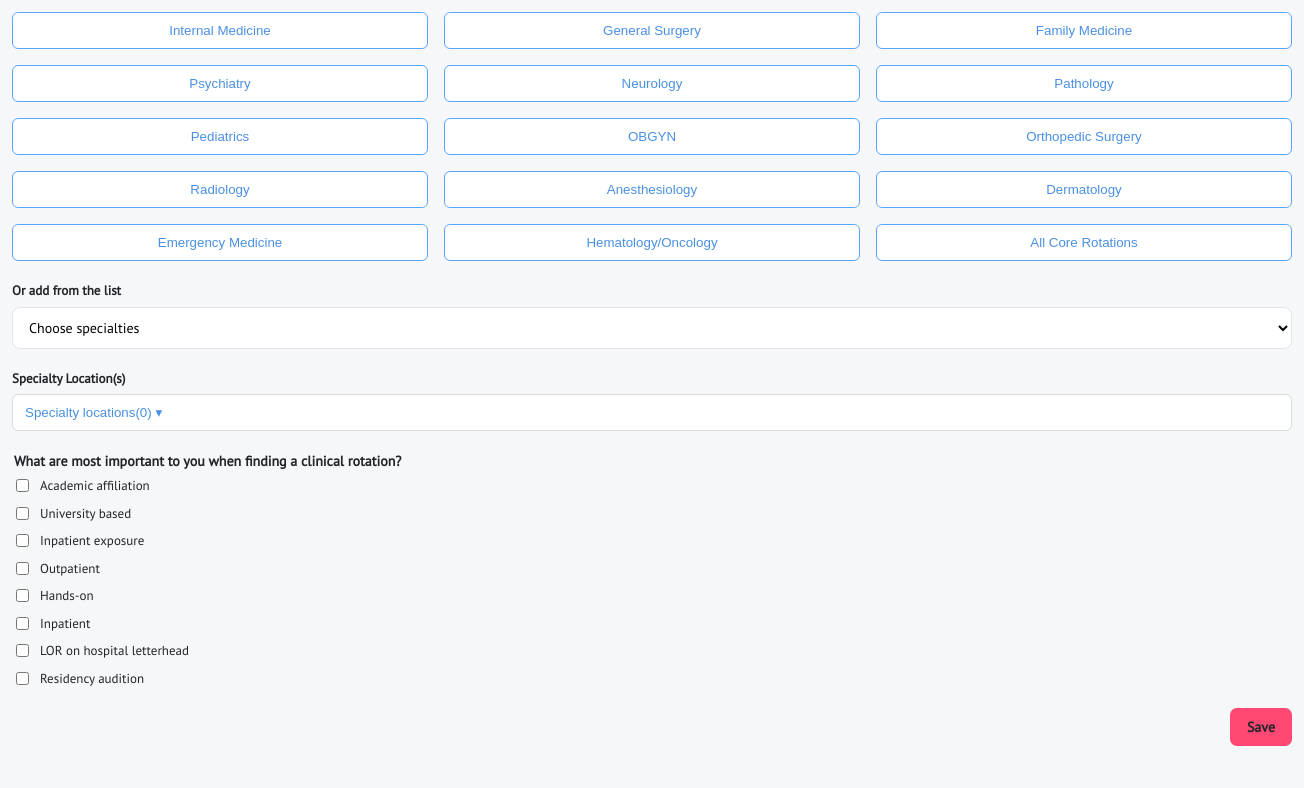
Test: StudentNeedsTab › renders the medical interests grid and saves a toggled selection
expect the button "All Core Rotations" is shown: met, box [876, 224, 1292, 261]
Click the button "Internal Medicine" at (220, 30), box [12, 12, 428, 49]
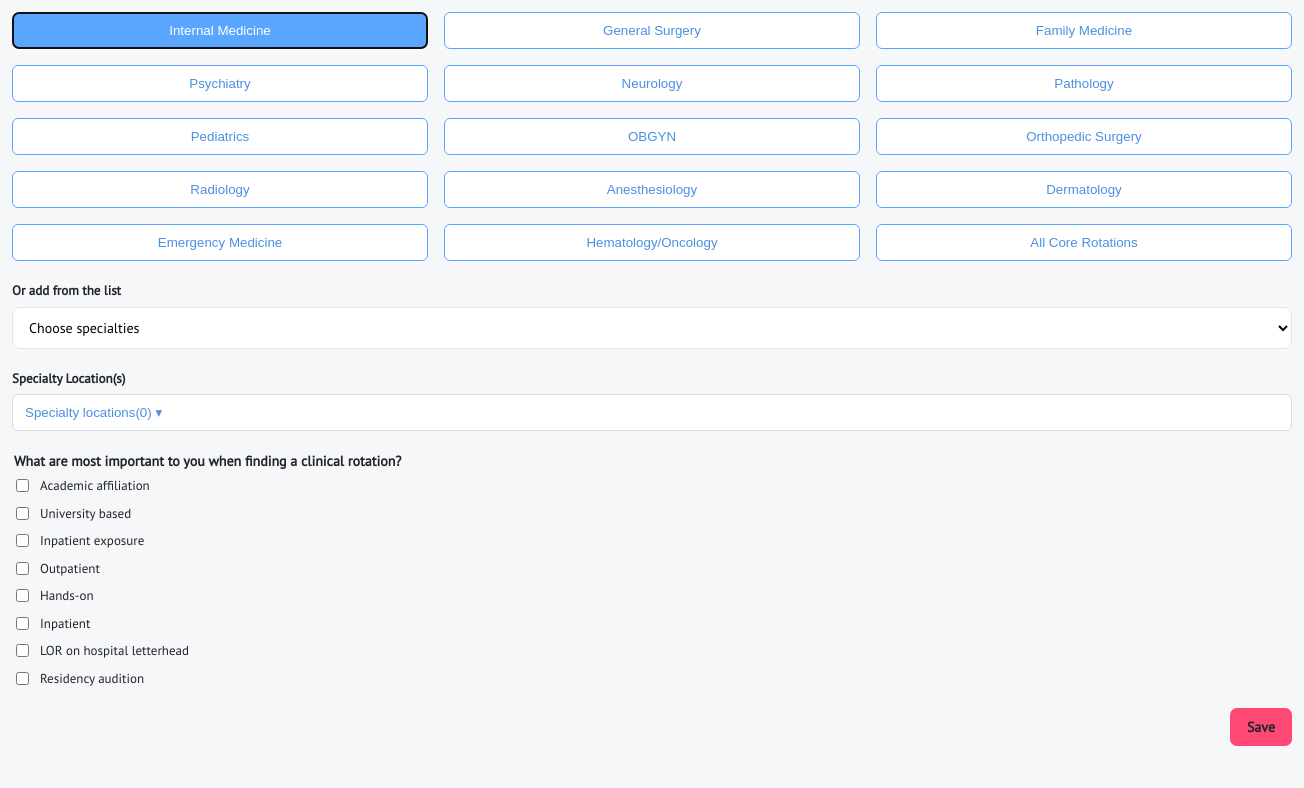
expect the button "Internal Medicine" is pressed: met, box [12, 12, 428, 49]
Click the button "Save" at (1261, 727), box [1230, 708, 1292, 746]
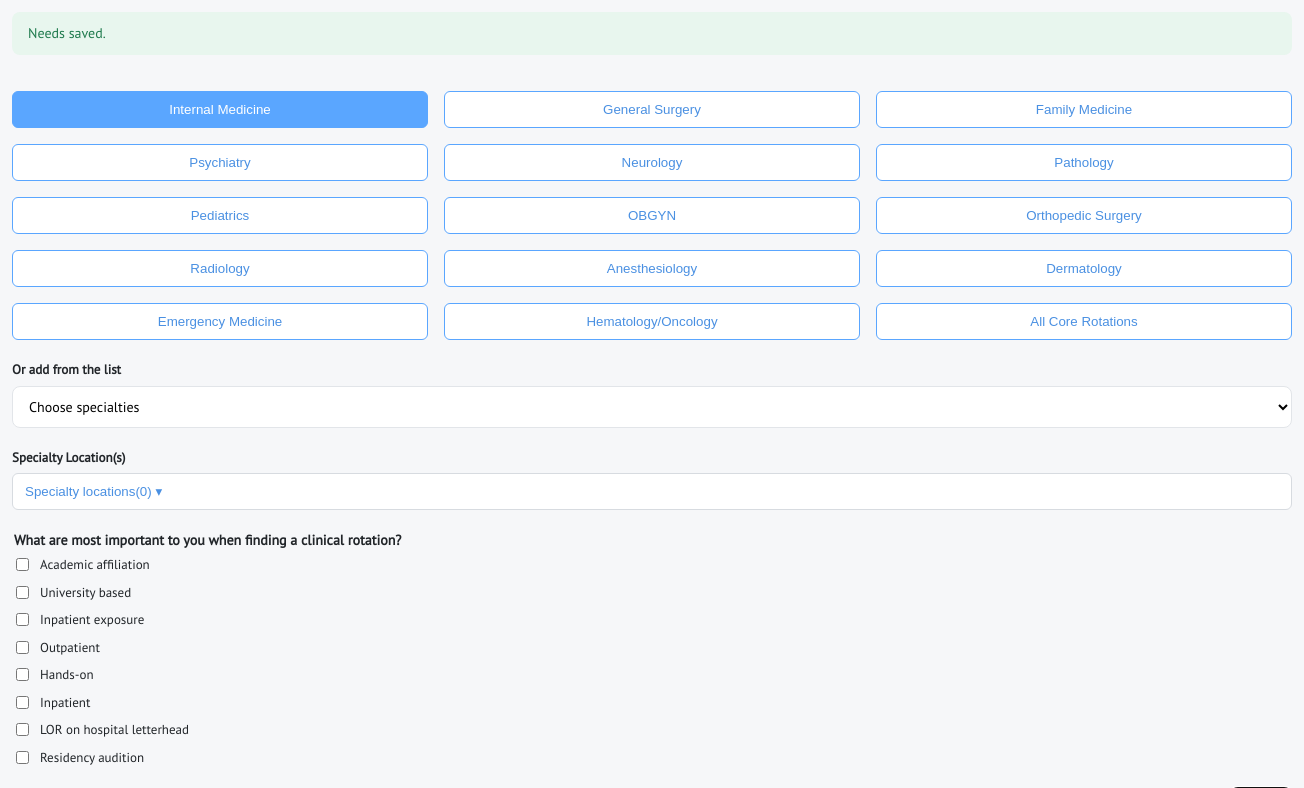
expect the text "Needs saved." is shown: met, box [12, 12, 1292, 55]
